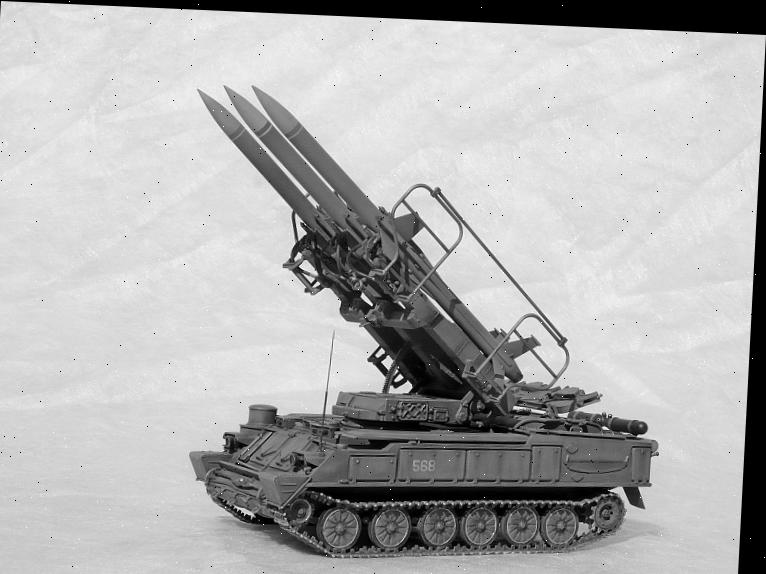armored_car: (175, 61, 686, 574)
